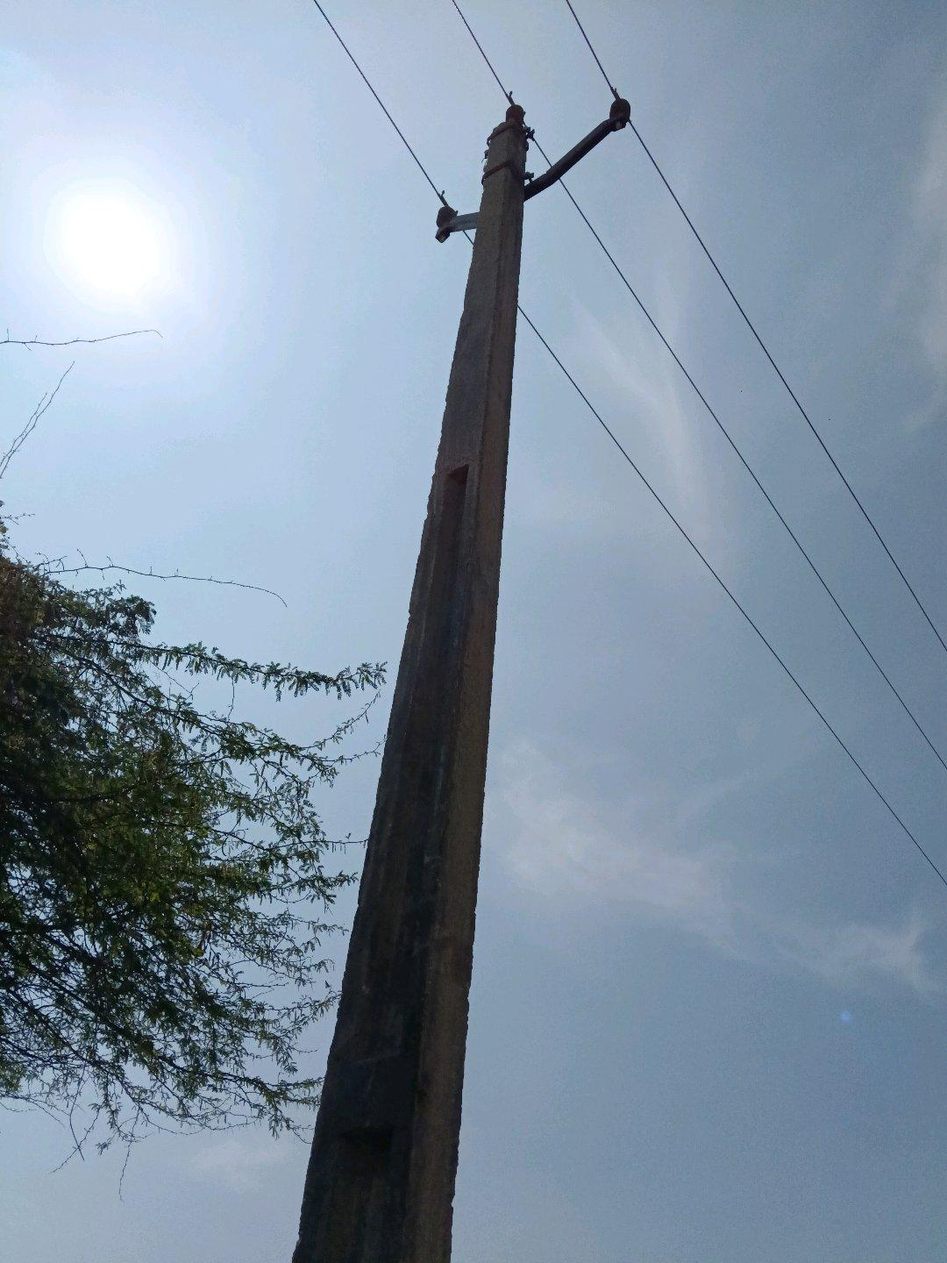{"0" "insulator", "1" "pole", "2" "crossarm", "3" "conductor", "4" "street_: (293, 100, 629, 1262)
